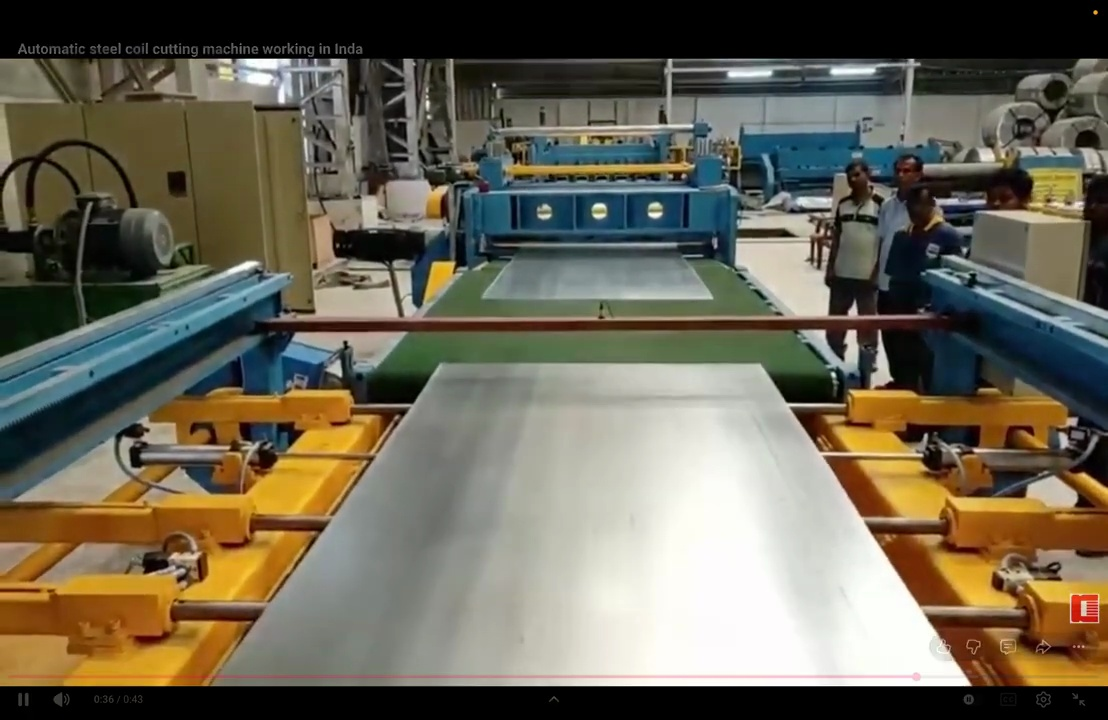steel plate: (215, 364, 966, 684), (483, 249, 712, 300)
